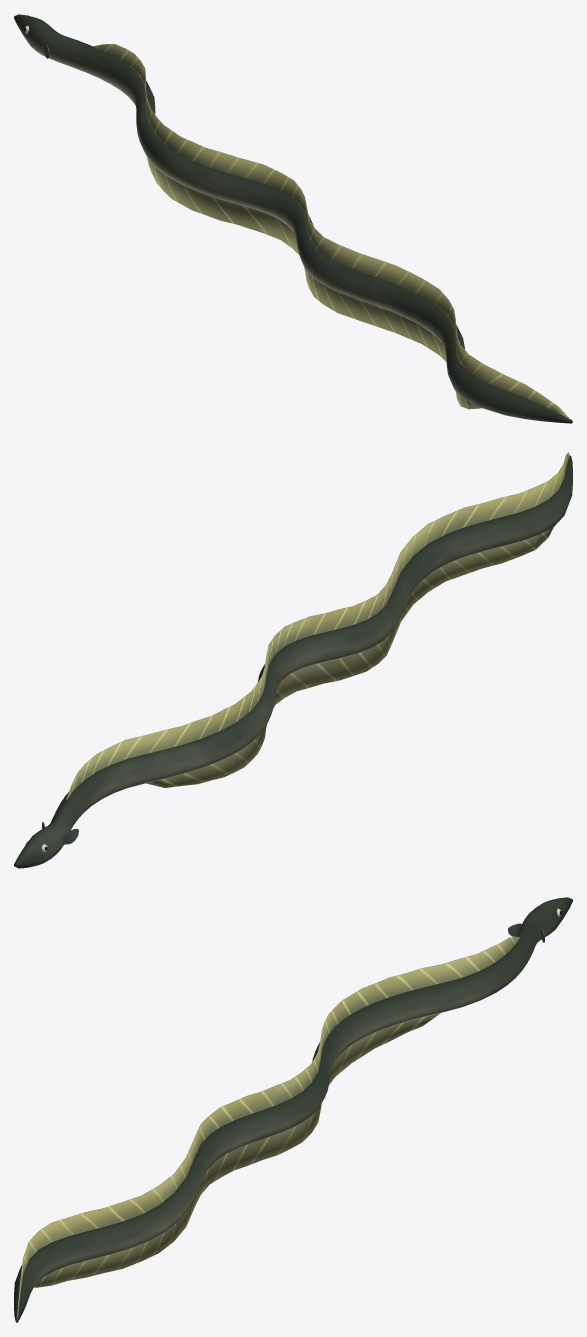
File: European_Eel.fbx
3 renders of one model, top to bottom at view 1: azimuth 30°, elevation 25°; view 2: azimuth 150°, elevation 25°; view 3: azimuth 330°, elevation 25°, orthographic. The views are drawn at different scales.
Visible parts, largest first — view 1: BezierCurve.002; view 2: BezierCurve.002; view 3: BezierCurve.002.
Boxes of the visible parts, x1,y1,x2,y2 form: BezierCurve.002: (14, 14, 572, 423); BezierCurve.002: (14, 452, 572, 868); BezierCurve.002: (14, 897, 572, 1322).
Bounding box in the file's own units: 4.5 × 4.61 × 61.14.
1 material, 1 textured.
